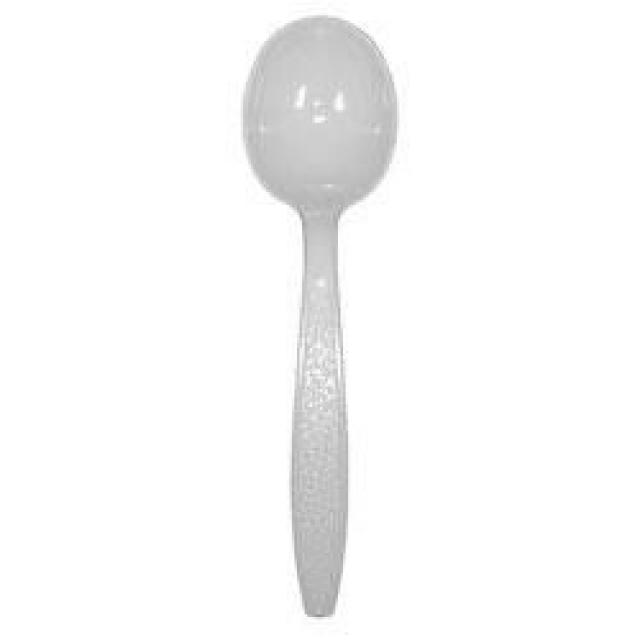spoon: (236, 12, 402, 629)
